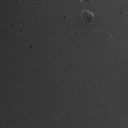corrosion: (80, 9, 96, 25)
